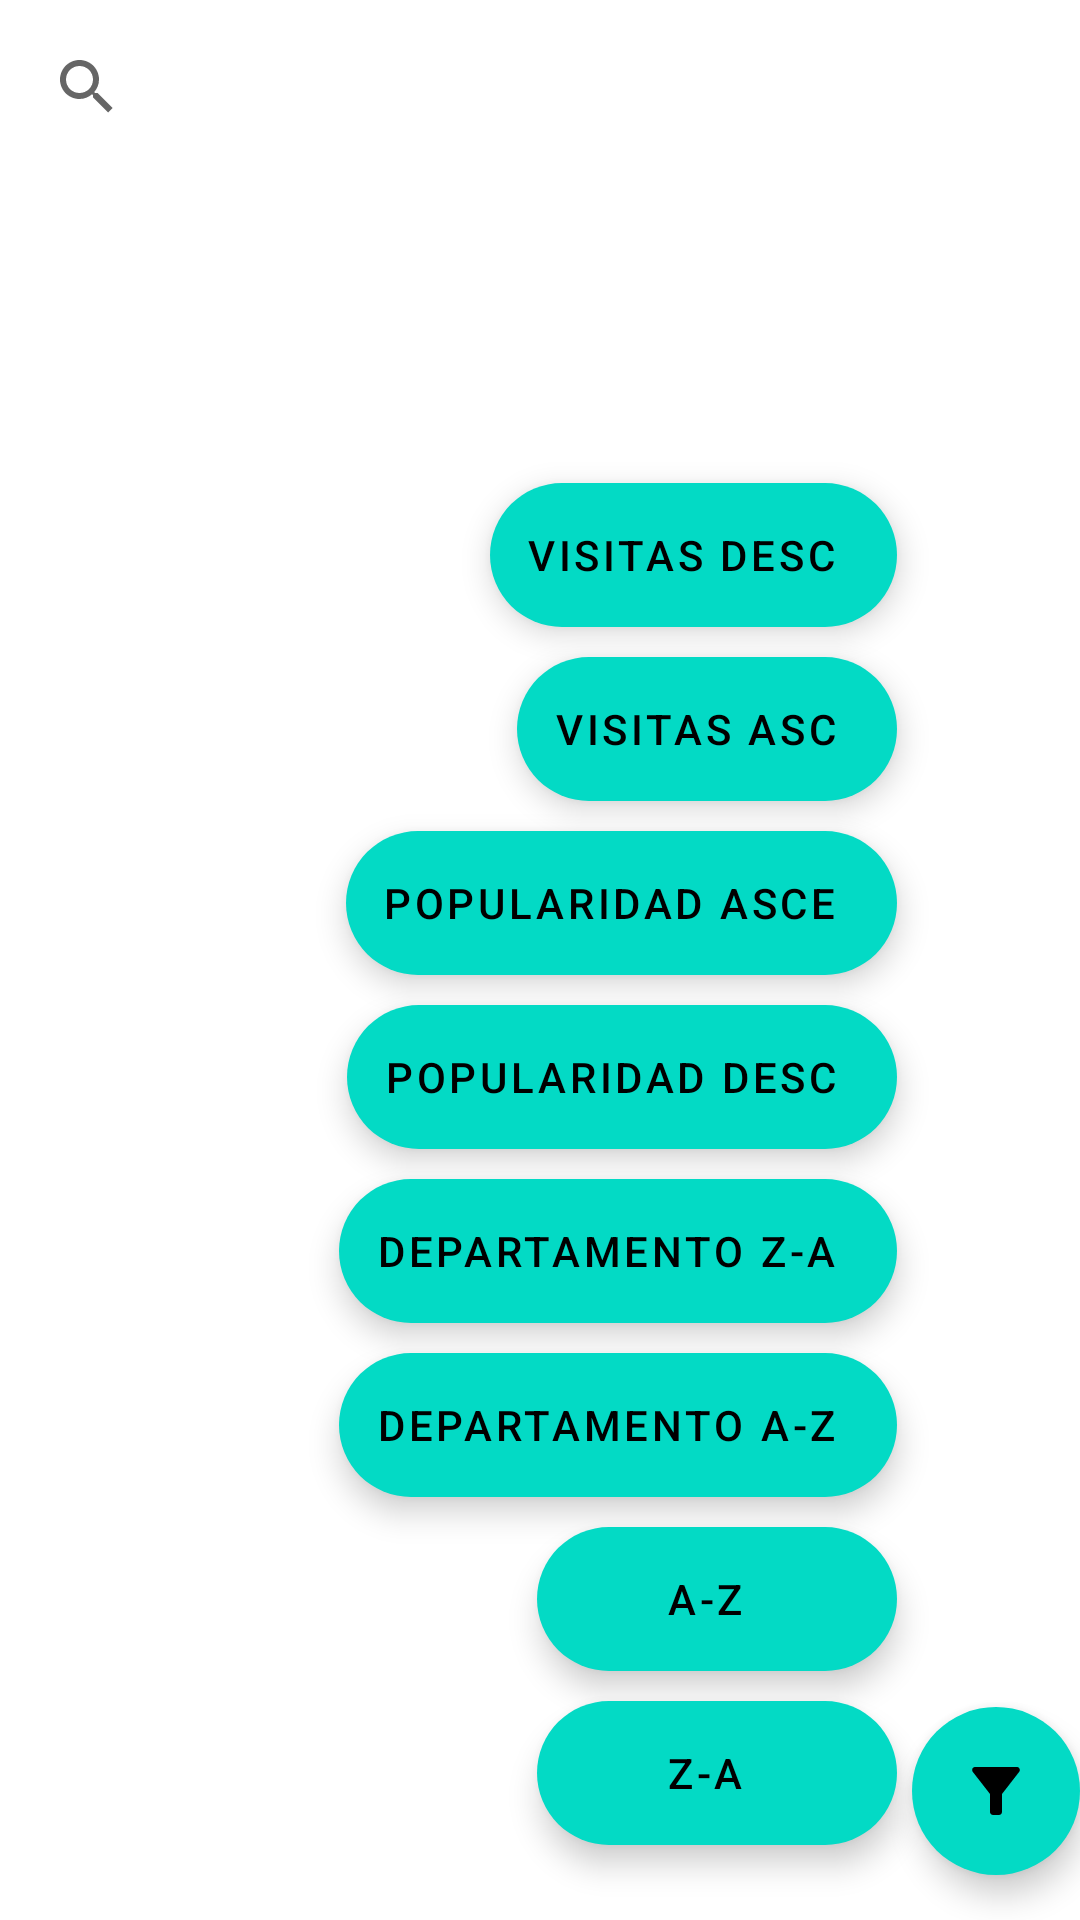

Where to tap for icons on this 1080w x 1920h app screen, as point (x, y):
filter: point (996, 1791)
